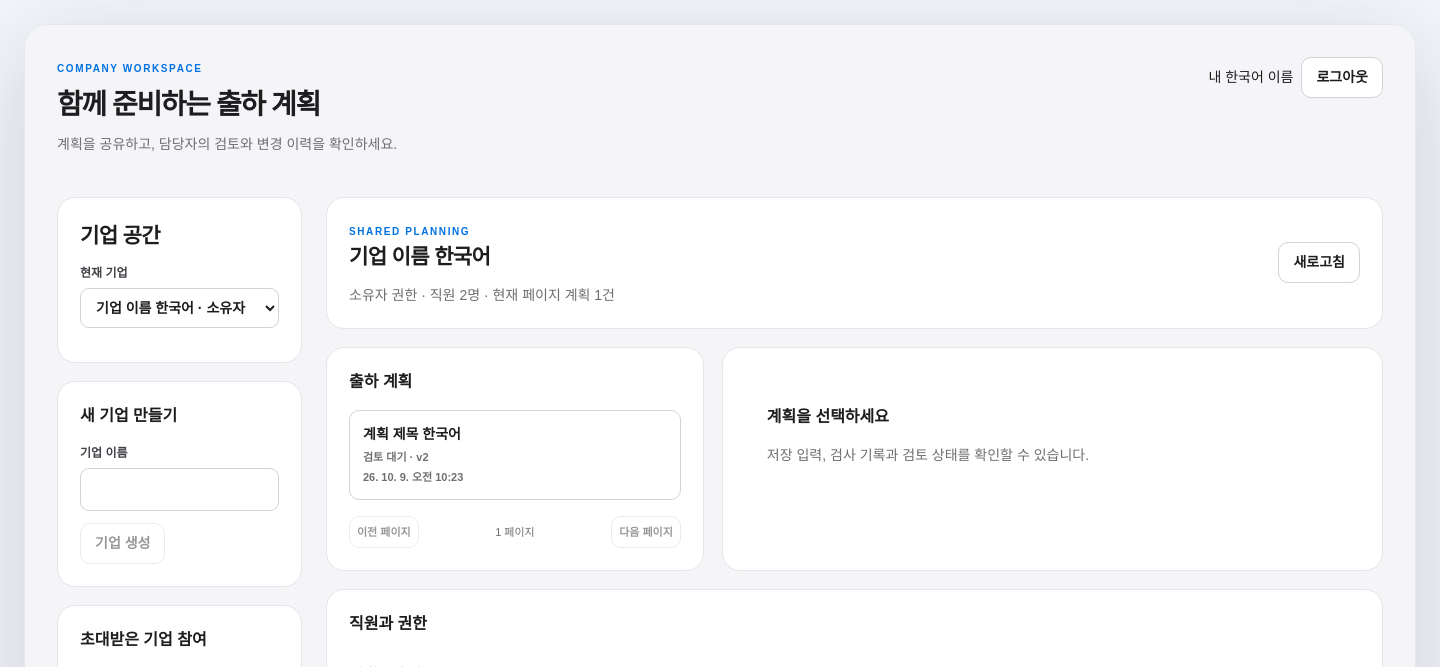
Test: preserves approval safety gates for self-review through live language switches
Click the button that starts with "계획 제목 한국어". click: (412, 434)
box: [349, 410, 681, 500]
(page scrolled)
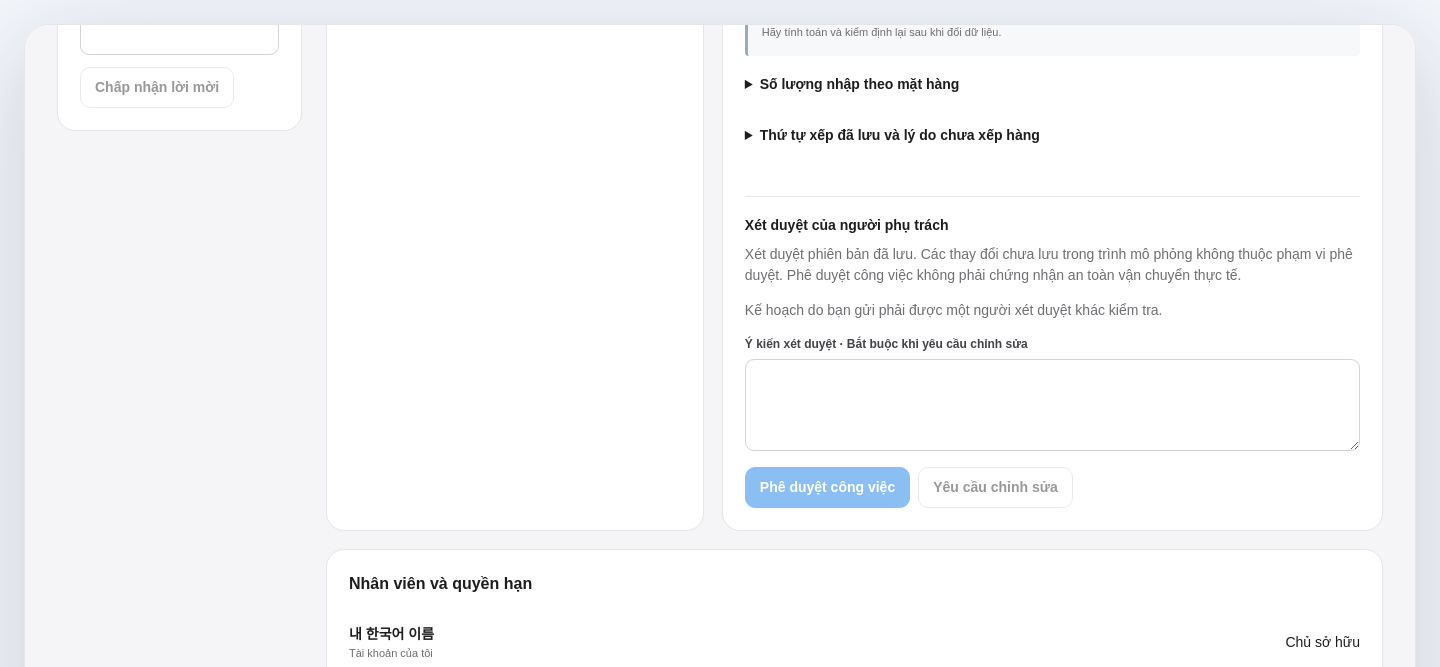
Expected: the button "Phê duyệt công việc" is disabled, [745, 467, 910, 508]
Expected: the text box labelled "Ý kiến xét duyệt · Bắt buộc khi yêu cầu chỉnh sửa" is disabled, [745, 359, 1360, 451]
